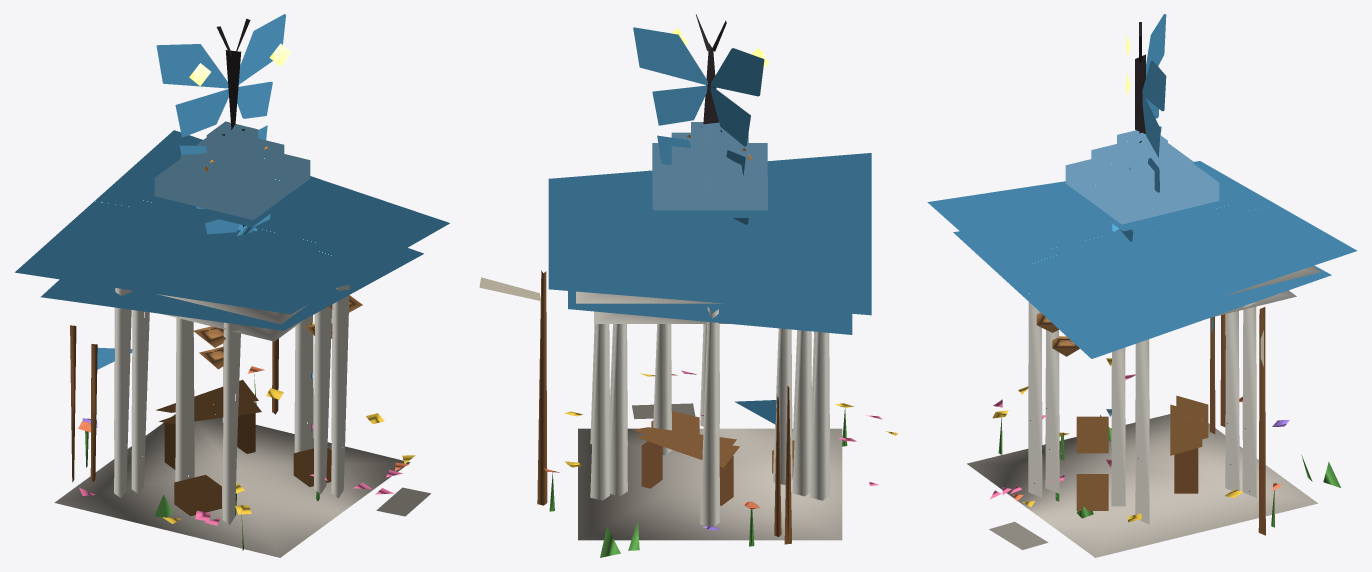
File: butterfly-garden-pavilion-blocky_lod2.glb
3 views of the same model, side by side, from view 1: azimuth 30°, elevation 25°; view 2: azimuth 150°, elevation 25°; view 3: azimuth 270°, elevation 25° (orthographic). The views are drawn at different scales.
Visible parts, largest first — view 1: lv3, lv2, lv1; view 2: lv3, lv2, lv1; view 3: lv3, lv2, lv1.
Boxes of the visible parts, x1,y1,x2,y2 form: lv3: (15,14,449,557); lv2: (40,125,423,521); lv1: (154,206,331,517); lv3: (479,14,897,557); lv2: (565,126,856,550); lv1: (635,218,794,505); lv3: (927,14,1357,557); lv2: (953,126,1331,503); lv1: (1051,224,1202,518).
Bounding box in the file's own units: 2.16 × 2.53 × 2.16.
